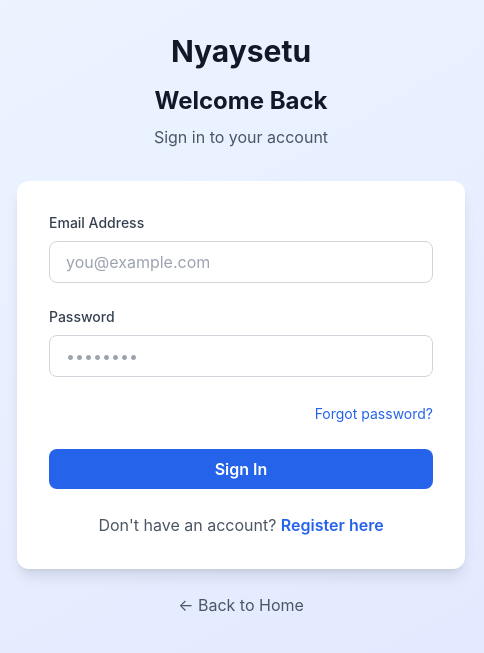
Test: LoginPage › should display validation errors for empty fields
Click the button "Sign In".
click(241, 469)  # box [49,449,433,489]
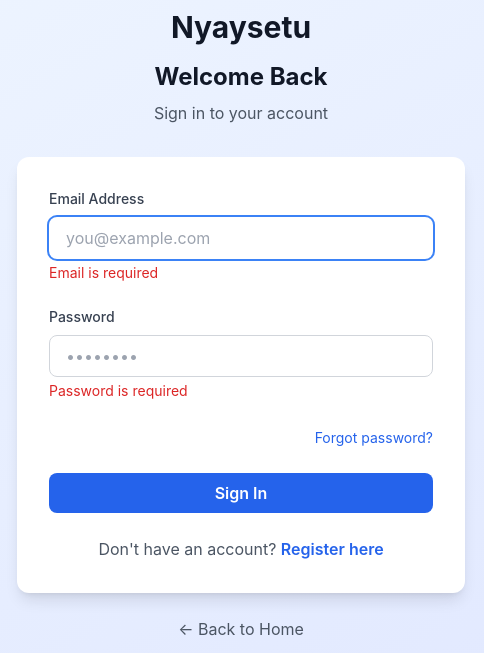
Expected: the text "Email is required" is shown, [49,264,158,281]
Expected: the text "Password is required" is shown, [49,382,188,399]
